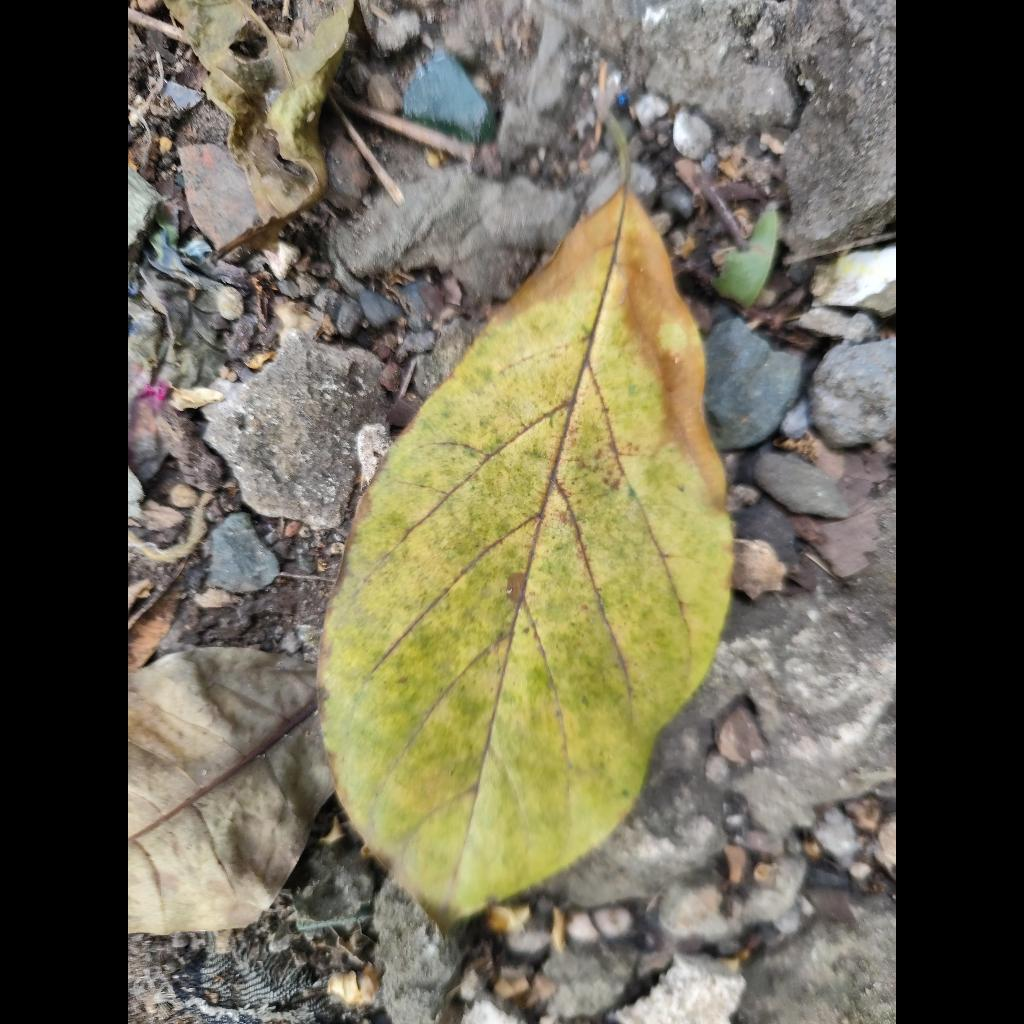deficiencia_nutricional: (319, 187, 731, 922)
